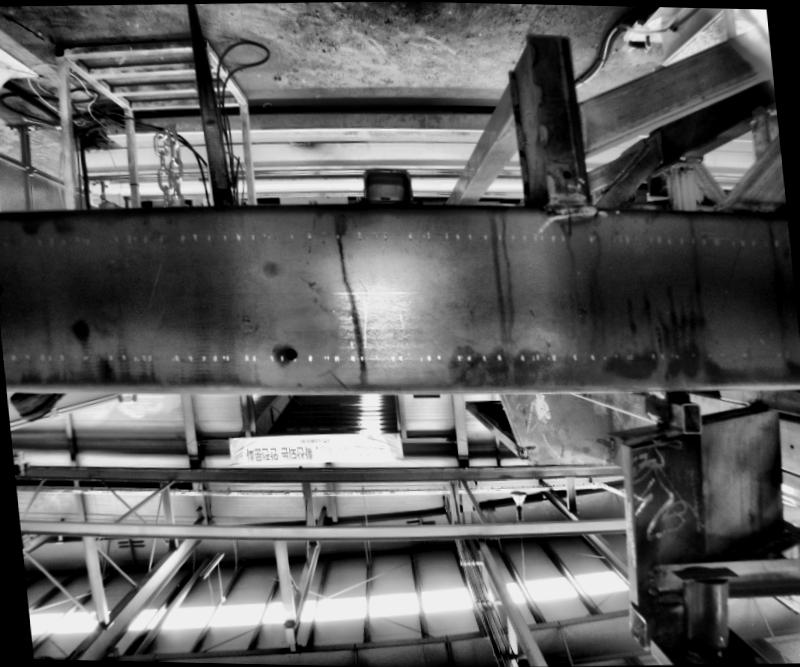bracket: (347, 156, 423, 202)
hole: (282, 343, 294, 355), (560, 168, 571, 177)
welding: (542, 185, 590, 208)
